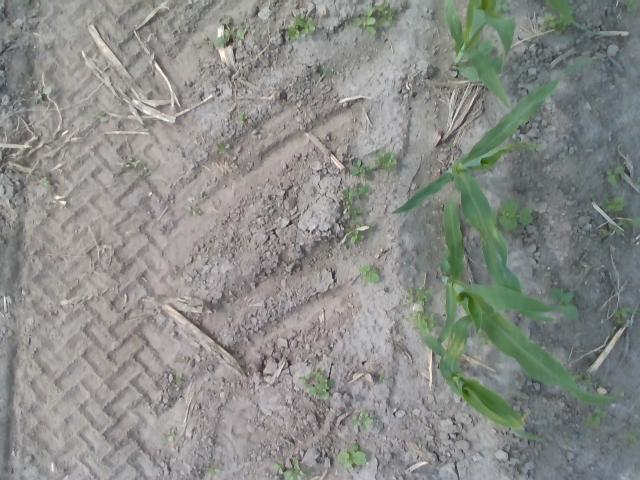Maize: (391, 60, 594, 324), (435, 193, 618, 413), (418, 312, 548, 444), (442, 0, 511, 115)
Weeds: (352, 0, 397, 36), (489, 198, 533, 230), (298, 369, 334, 400), (213, 15, 246, 48), (341, 181, 368, 220), (598, 218, 640, 238), (407, 310, 442, 334), (287, 14, 316, 40), (336, 444, 366, 468), (539, 12, 568, 35), (371, 148, 397, 172), (404, 285, 432, 307), (546, 285, 574, 307), (125, 156, 152, 177), (284, 459, 310, 480), (584, 407, 608, 429), (350, 157, 372, 180), (351, 410, 375, 431), (569, 368, 594, 386), (602, 195, 626, 213), (358, 264, 381, 282), (344, 224, 364, 244), (606, 164, 624, 184), (29, 173, 51, 188), (613, 306, 629, 326), (32, 87, 53, 102), (478, 330, 493, 346), (628, 425, 640, 444), (493, 0, 510, 12), (215, 141, 230, 153), (272, 460, 284, 474), (624, 0, 640, 10), (206, 466, 221, 476), (237, 111, 248, 123), (98, 110, 108, 122), (366, 222, 376, 233), (164, 433, 174, 441), (378, 373, 386, 382), (176, 372, 182, 383), (185, 206, 193, 212)
